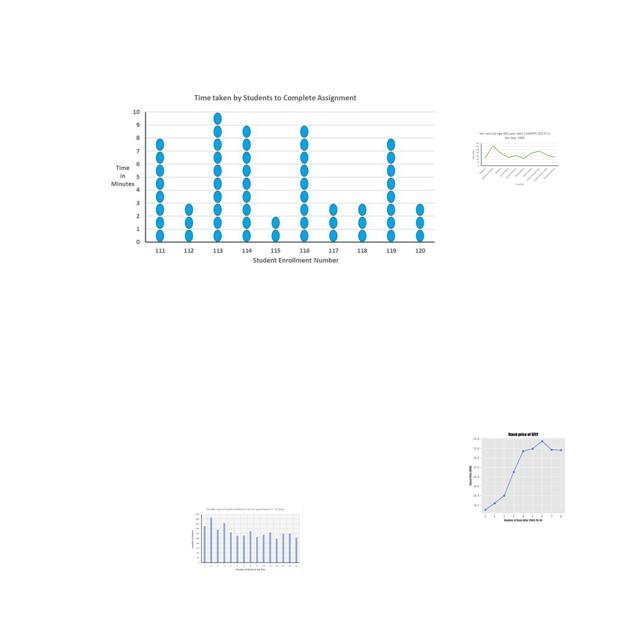Graph: (106, 90, 437, 269), (456, 426, 587, 524), (189, 506, 303, 574), (469, 130, 560, 187)
